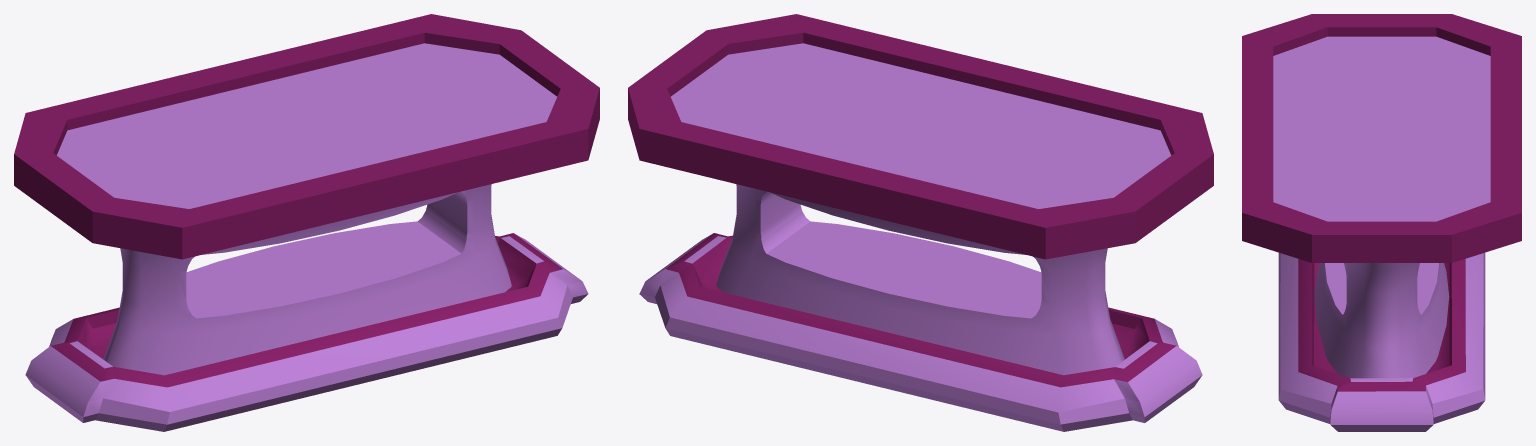
Rendered from tableCrossCloth.glb.
3 renders of one model, left to right at view 1: azimuth 30°, elevation 25°; view 2: azimuth 150°, elevation 25°; view 3: azimuth 270°, elevation 25°, orthographic. The views are drawn at different scales.
Visible parts, largest first — view 1: tableCrossCloth; view 2: tableCrossCloth; view 3: tableCrossCloth.
Boxes of the visible parts, x1=… form: tableCrossCloth: x1=14, y1=14, x2=599, y2=431; tableCrossCloth: x1=628, y1=14, x2=1213, y2=431; tableCrossCloth: x1=1242, y1=14, x2=1521, y2=431.
Bounding box in the file's own units: 1.87 × 0.786 × 0.9997.
